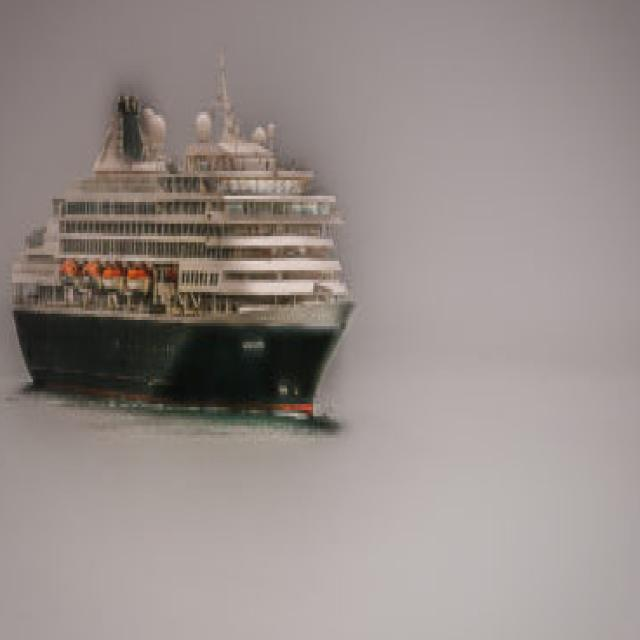passenger ship: (5, 65, 367, 415)
